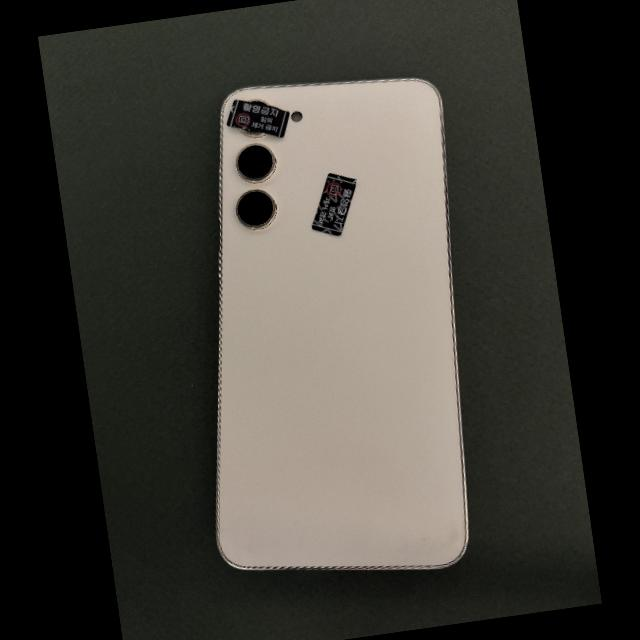lens: (236, 189, 276, 228), (237, 145, 276, 182), (242, 129, 267, 137)
phone: (216, 79, 468, 570)
sticker: (310, 173, 357, 237), (226, 99, 290, 138)
